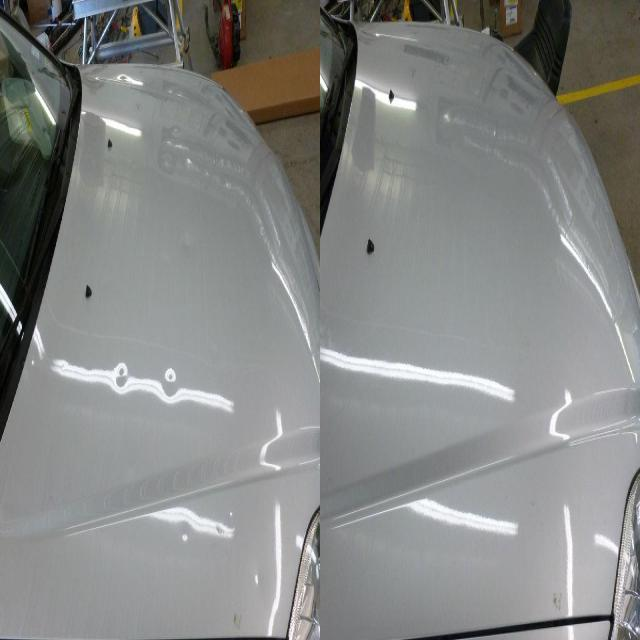dent: (159, 356, 184, 406), (112, 353, 133, 397)
